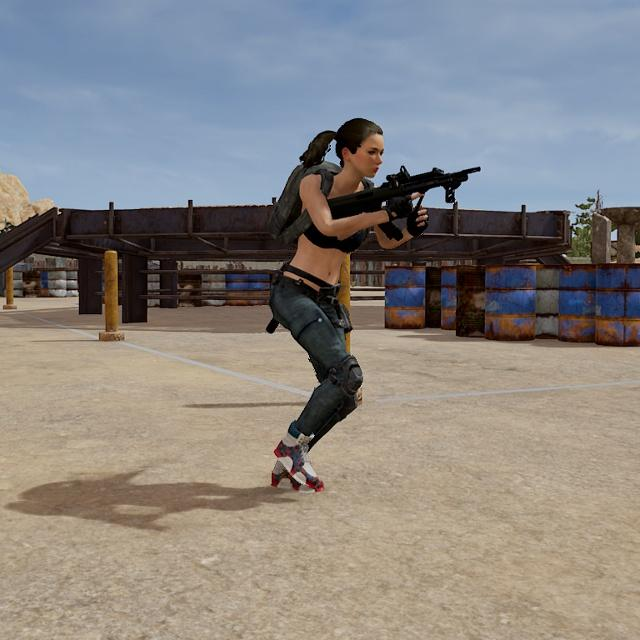head: (333, 115, 386, 181)
people: (261, 112, 400, 495)
